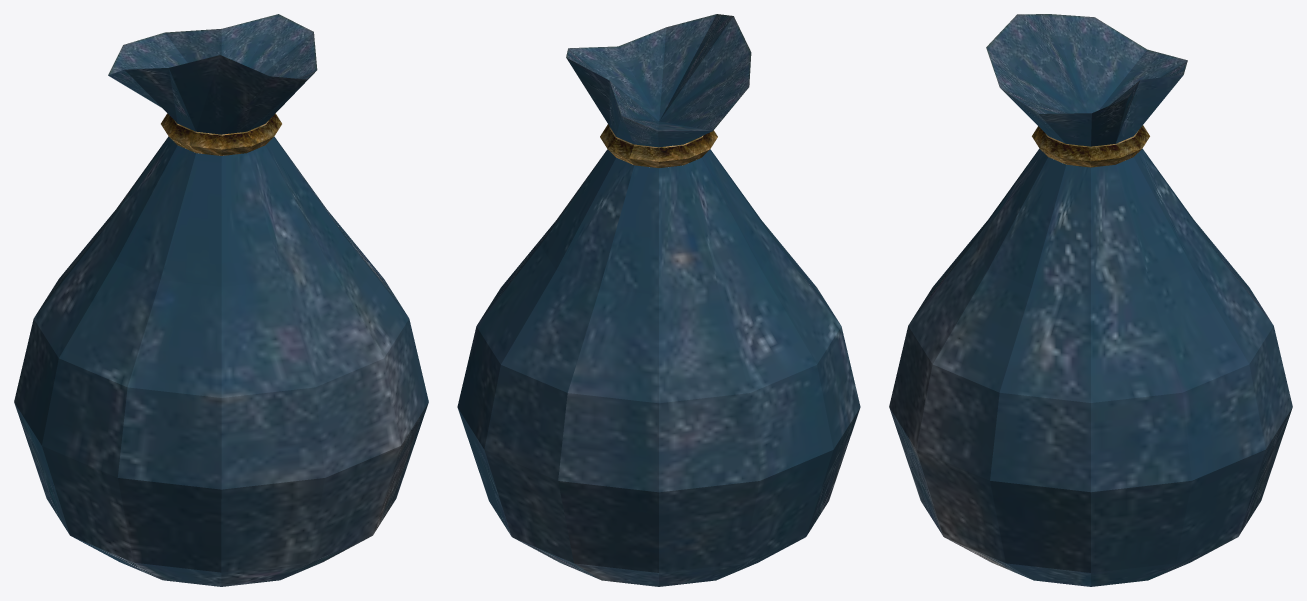
The model's file is GS_MIX_BLUE_02_SZCZAWIK.glb.
3 views of the same model, side by side, from view 1: azimuth 30°, elevation 25°; view 2: azimuth 150°, elevation 25°; view 3: azimuth 270°, elevation 25° (orthographic). The views are drawn at different scales.
Parts seen in each view (by area): view 1: GS_MIX_BLUE_02_SZCZAWIK; view 2: GS_MIX_BLUE_02_SZCZAWIK; view 3: GS_MIX_BLUE_02_SZCZAWIK.
Boxes of the visible parts, <box> form: GS_MIX_BLUE_02_SZCZAWIK: <box>14,14,428,586</box>; GS_MIX_BLUE_02_SZCZAWIK: <box>457,14,860,586</box>; GS_MIX_BLUE_02_SZCZAWIK: <box>889,14,1292,586</box>.
Size of the model in its own units: 0.2801 by 0.3871 by 0.2801.
Materials: 2 (2 with a texture image).
